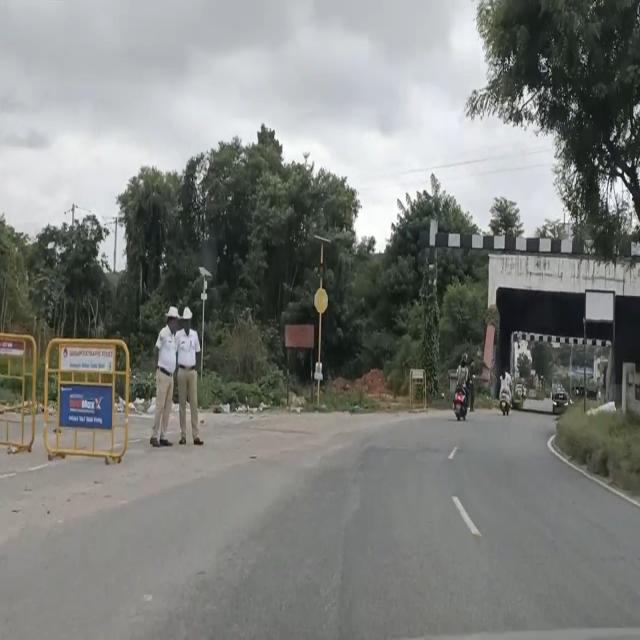bien_cam: (314, 287, 328, 314)
